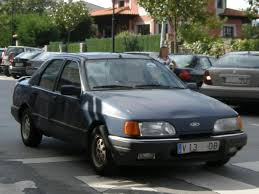car: (13, 55, 246, 168), (201, 50, 259, 112), (164, 54, 222, 93), (27, 51, 75, 80), (11, 49, 38, 77)
